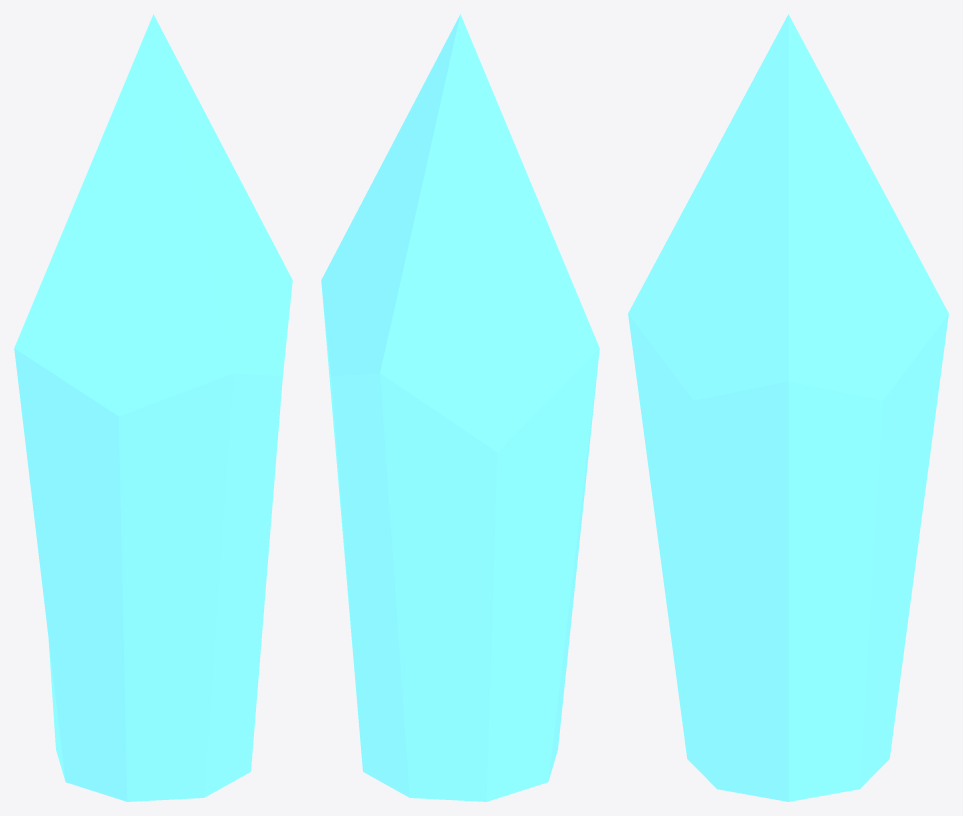
Rendered from Crystal_short_fat_single.fbx.
3 views of the same model, side by side, from view 1: azimuth 30°, elevation 25°; view 2: azimuth 150°, elevation 25°; view 3: azimuth 270°, elevation 25° (orthographic).
Visible parts, largest first — view 1: Cube; view 2: Cube; view 3: Cube.
Part boxes in pixels (bbox=[...]): Cube: bbox=[14, 14, 292, 801]; Cube: bbox=[321, 14, 599, 801]; Cube: bbox=[628, 14, 948, 801].
Size of the model in its own units: 674 by 1726 by 674.
